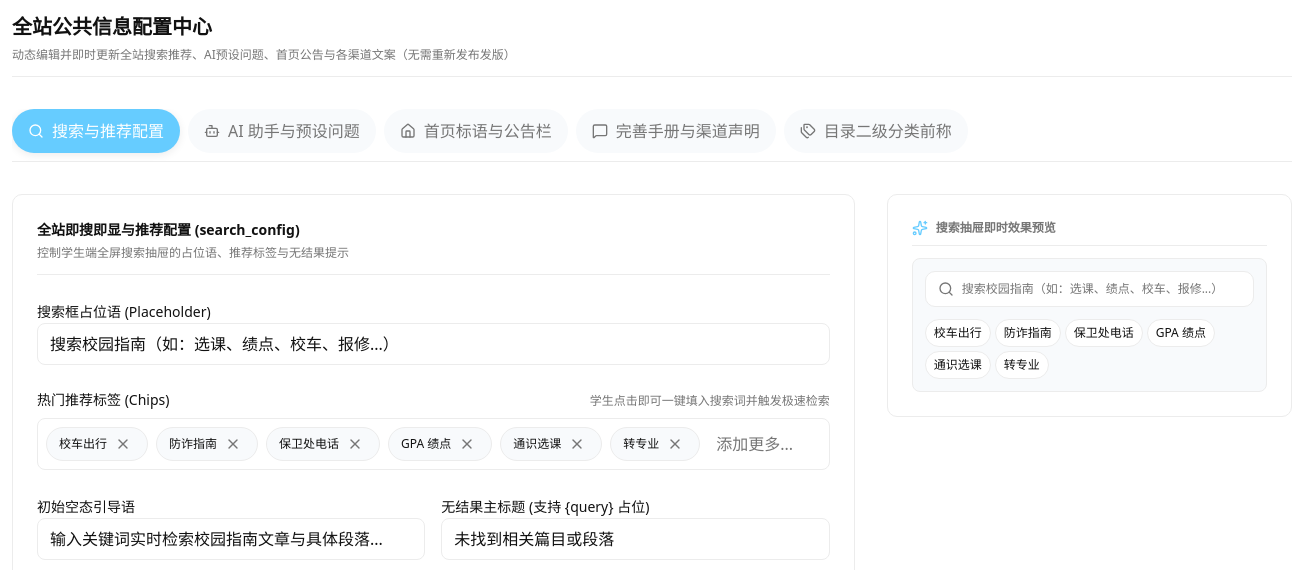
Scenario: admin dashboard component suite › renders SiteConfigPanel and switches between 5 configuration sub-tabs
The image size is (1292, 570).
Expected: the heading "全站公共信息配置中心" is shown, [12,13,212,40]
Expected: the text "搜索与推荐配置" is shown, [52,119,164,143]
Note: 切换到 AI 助手
Step 1. Click the button "AI 助手与预设问题" → (282, 131), box [188,109,376,153]
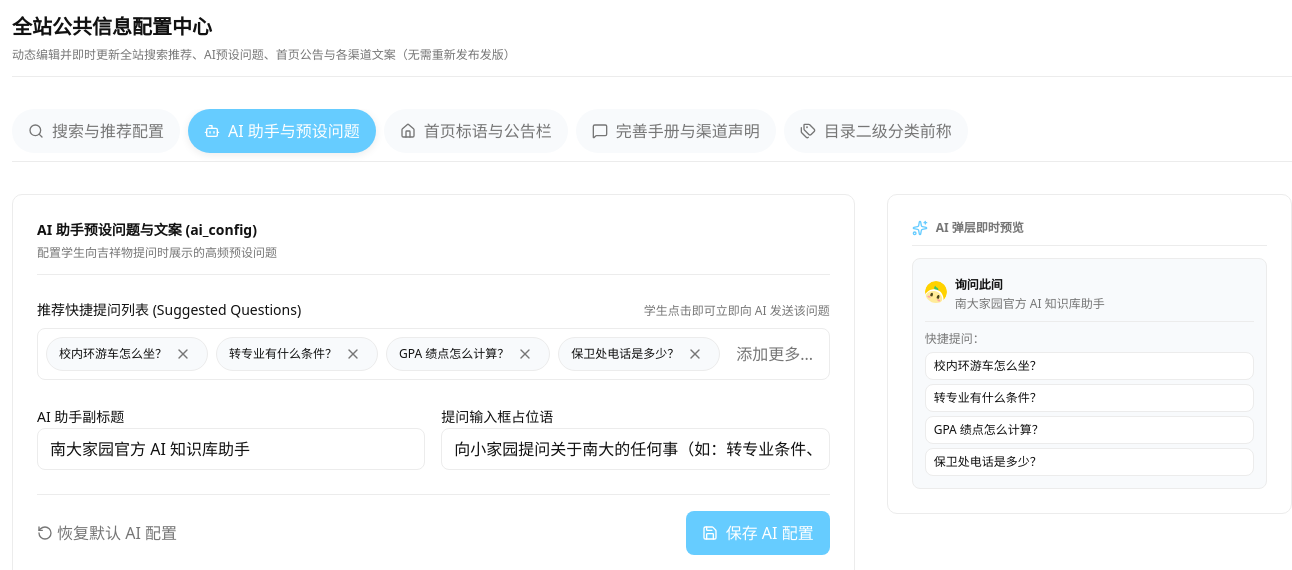
Now the text "推荐快捷提问列表 (Suggested Questions)" is shown, box [37,299,301,320]
Note: 切换到 首页标语与公告栏
Step 2. Click the button "首页标语与公告栏" → (476, 131), box [384,109,568,153]
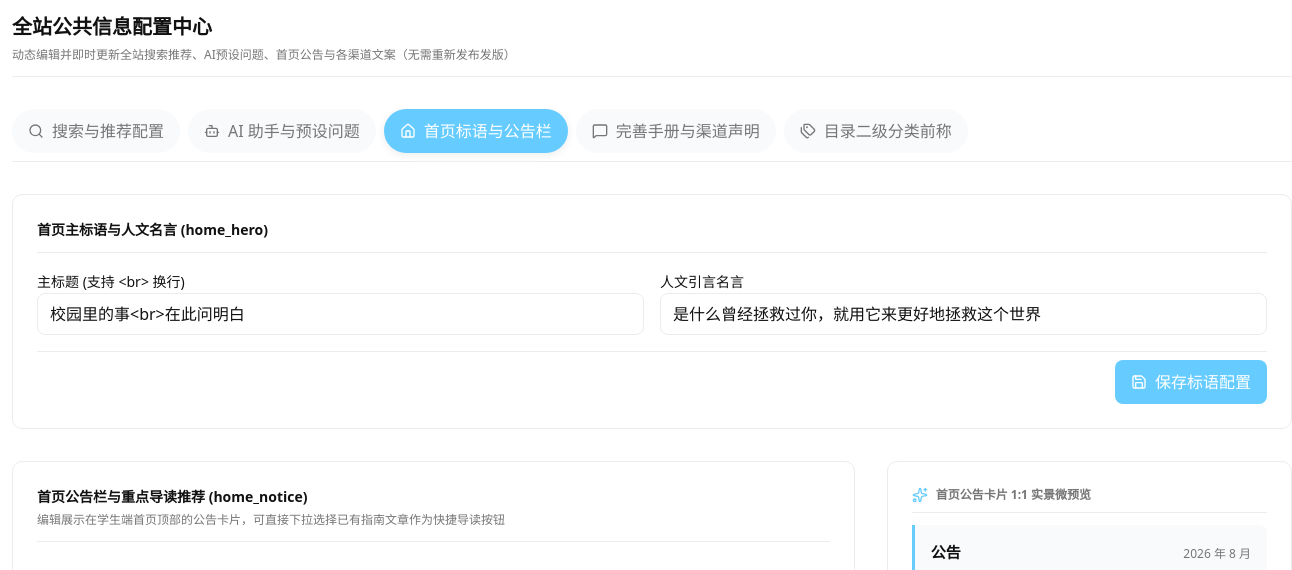
Now the heading "首页主标语与人文名言 (home_hero)" is shown, box [37,220,268,239]
Note: 切换到 完善手册与渠道声明
Step 3. Click the button "完善手册与渠道声明" → (676, 131), box [576,109,776,153]
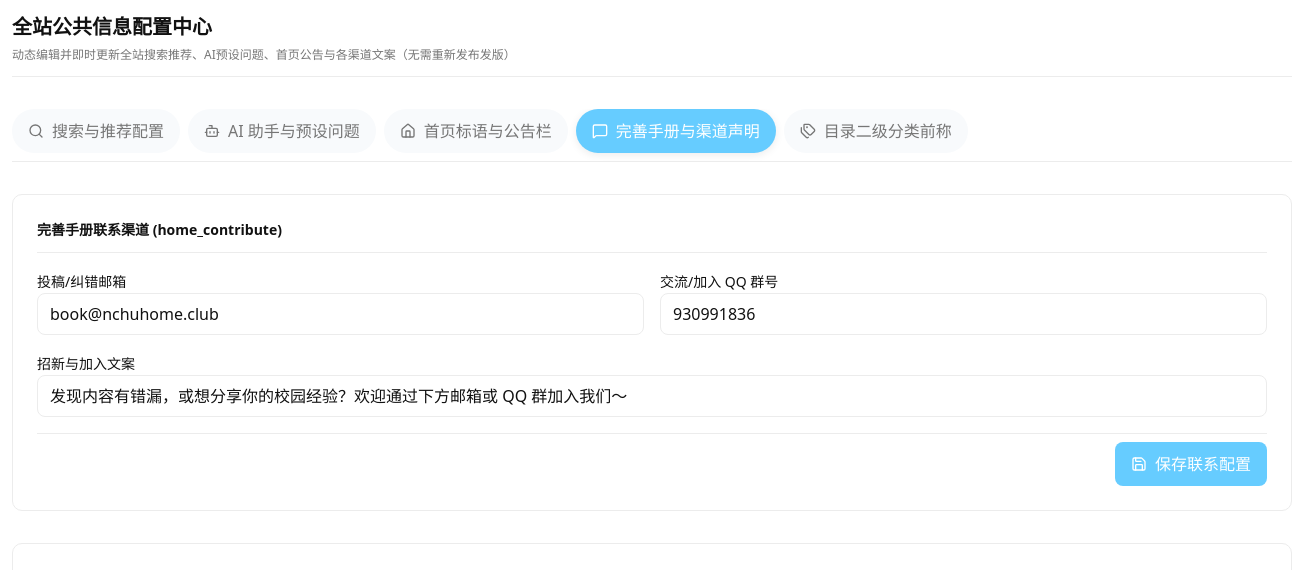
Now the heading "完善手册联系渠道 (home_contribute)" is shown, box [37,220,282,239]
Note: 切换到 目录二级分类前称
Step 4. Click the button "目录二级分类前称" → (876, 131), box [784,109,968,153]
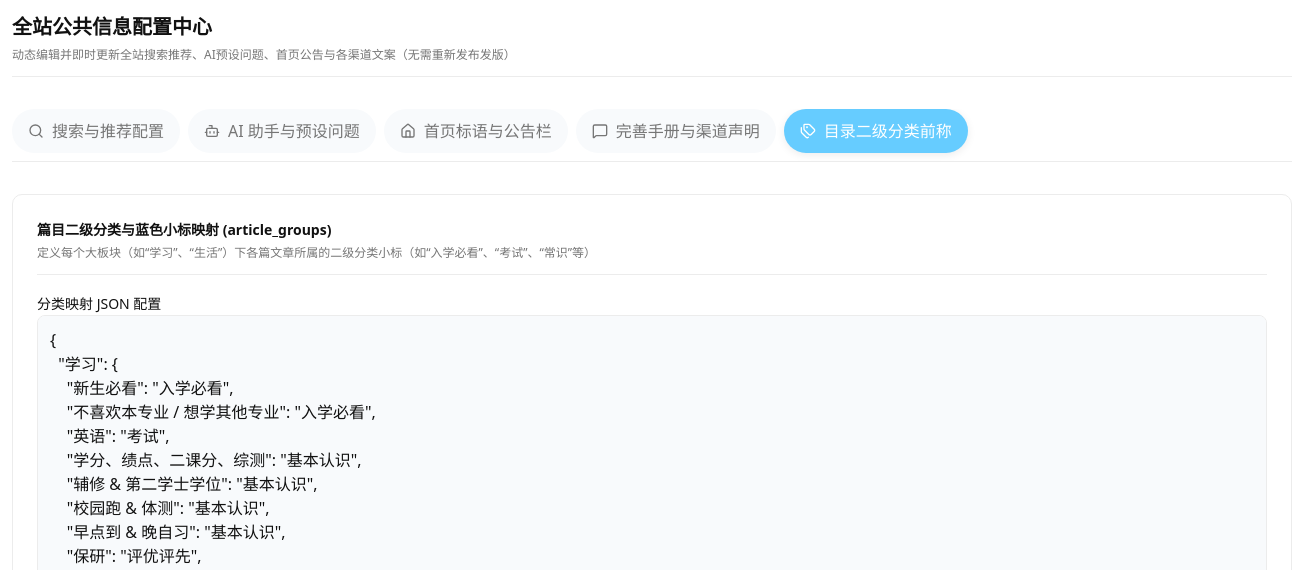
Now the heading "篇目二级分类与蓝色小标映射 (article_groups)" is shown, box [37,220,331,239]
